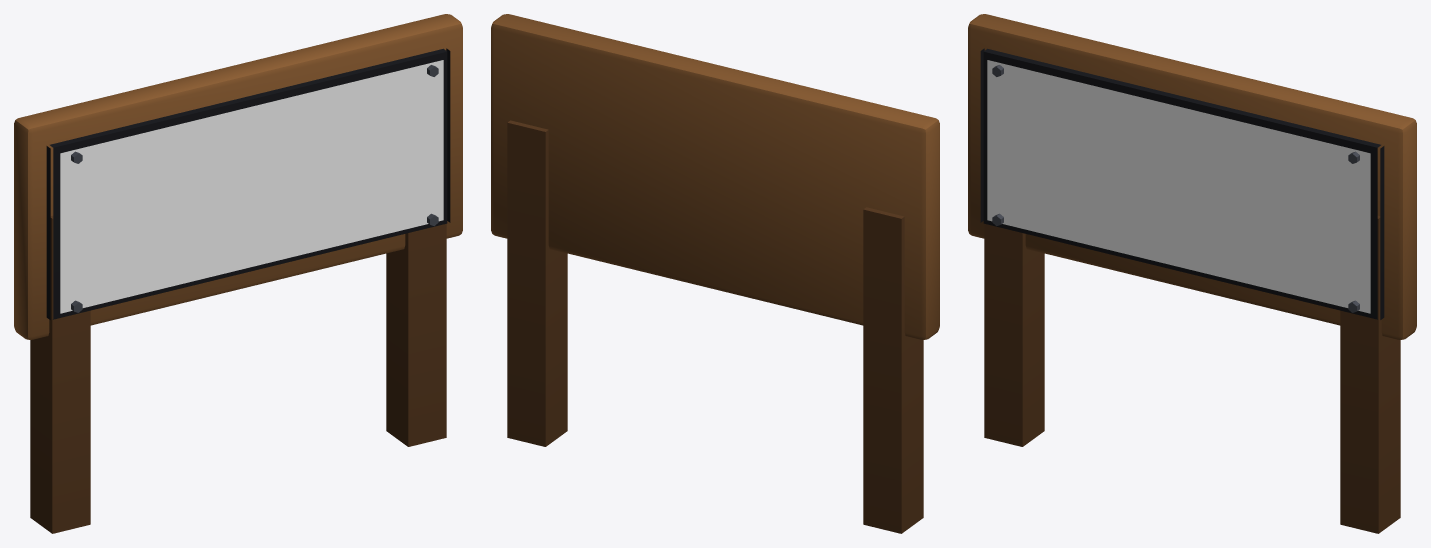
Rendered from sign_scrap.glb.
3 views of the same model, side by side, from view 1: azimuth 30°, elevation 25°; view 2: azimuth 150°, elevation 25°; view 3: azimuth 330°, elevation 25° (orthographic).
Visible parts, largest first — view 1: sign_scrap, display; view 2: sign_scrap; view 3: sign_scrap, display.
Boxes of the visible parts, x1,y1,x2,y2 form: sign_scrap: (14, 14, 462, 533); display: (60, 60, 443, 313); sign_scrap: (491, 14, 939, 533); sign_scrap: (968, 14, 1416, 533); display: (987, 60, 1370, 313).
Size of the model in its own units: 1.6 by 1.42 by 0.183.
